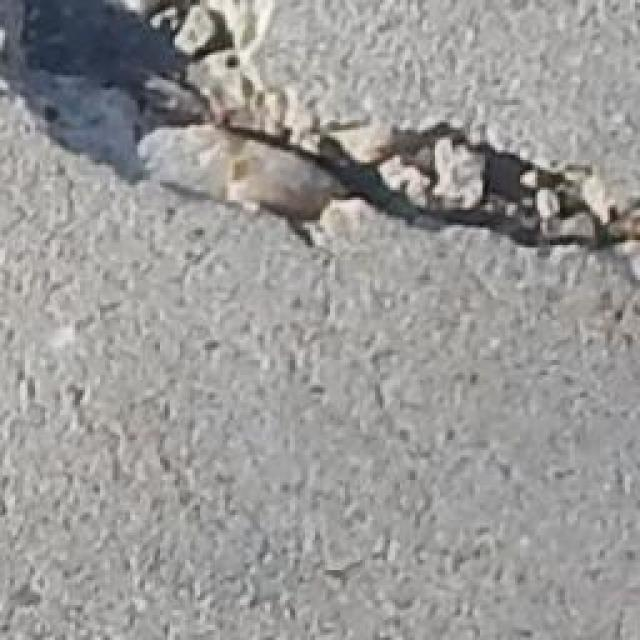concrete-crack: (0, 0, 640, 261)
